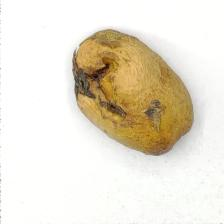NG: (72, 44, 135, 128), (140, 93, 166, 129)
